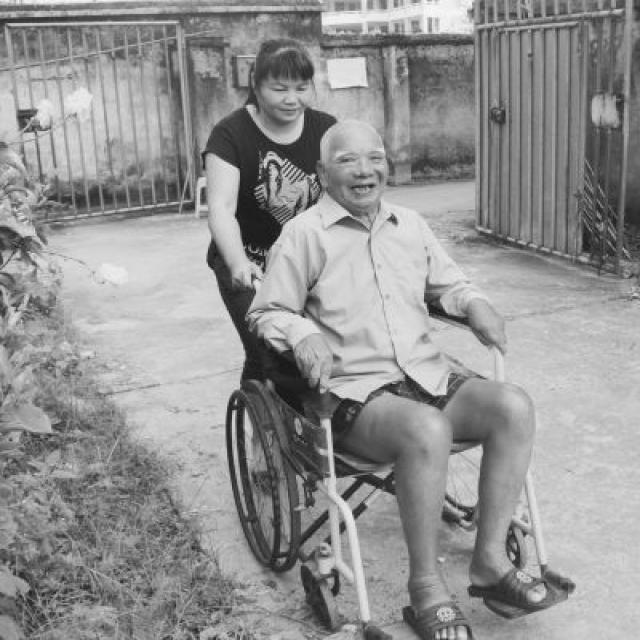wheelchairs: (214, 271, 578, 638)
